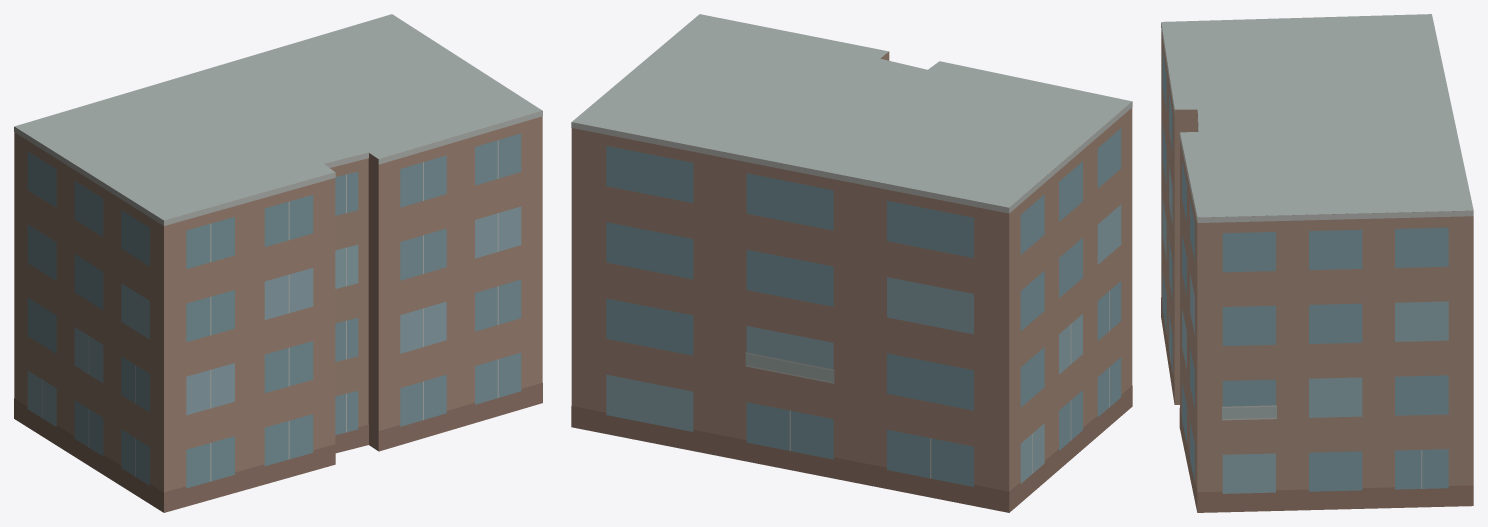
The model's file is survey-upis-32935231.glb.
The picture shows the model from 3 angles, left to right: view 1: azimuth 30°, elevation 25°; view 2: azimuth 150°, elevation 25°; view 3: azimuth 270°, elevation 25°; orthographic projection. The views are drawn at different scales.
Parts seen in each view (by area): view 1: survey-upis-32935231.tmp; view 2: survey-upis-32935231.tmp; view 3: survey-upis-32935231.tmp.
Part boxes in pixels (box(x1,y1,x2,y2)): survey-upis-32935231.tmp: box(14, 14, 542, 512); survey-upis-32935231.tmp: box(571, 14, 1132, 512); survey-upis-32935231.tmp: box(1161, 14, 1473, 512).
Bounding box in the file's own units: 18.92 × 12.8 × 12.29.
